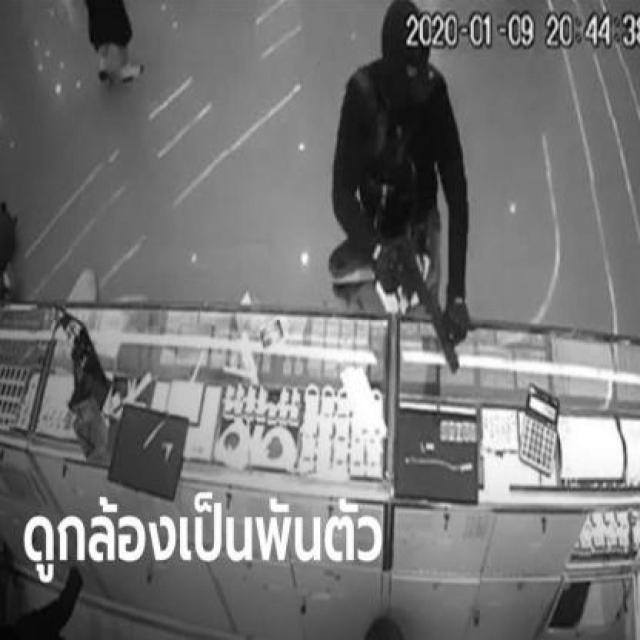weapon: (392, 238, 462, 378)
